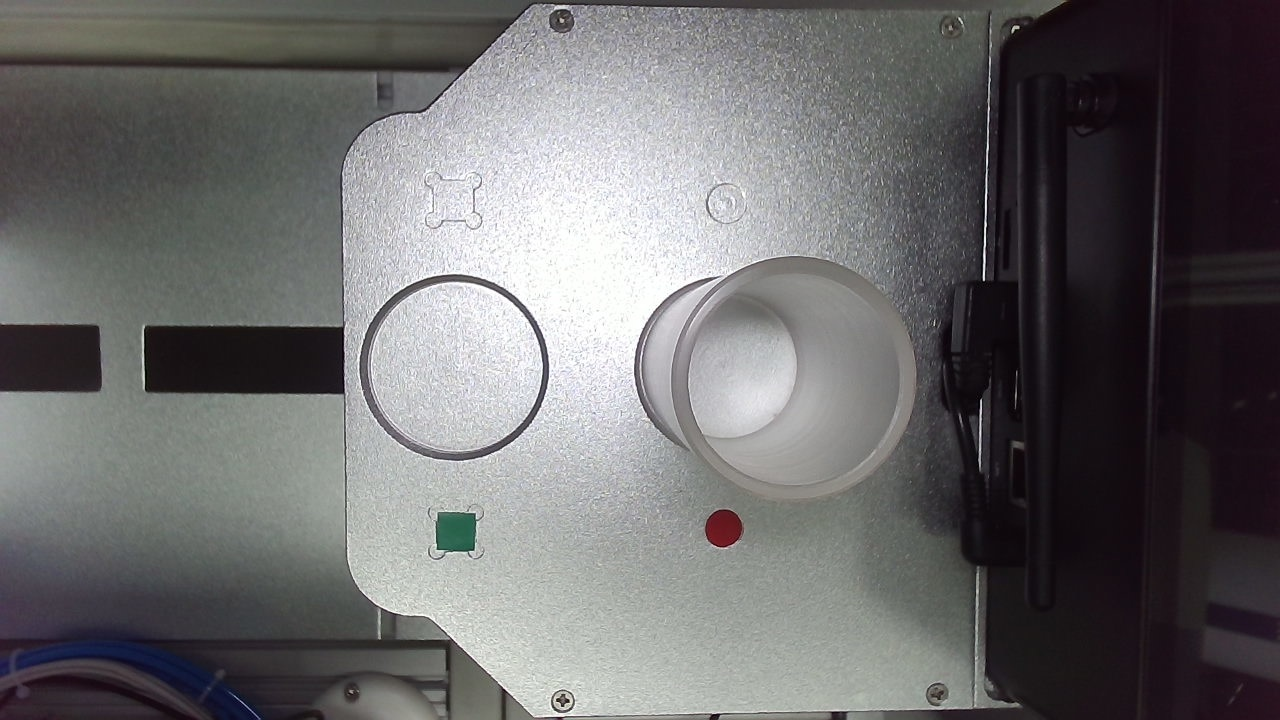XLabel: (626, 353, 660, 386)
YLabel: (405, 351, 440, 386)
none: (563, 421, 725, 584)
transparenexcept: (227, 422, 503, 663)
